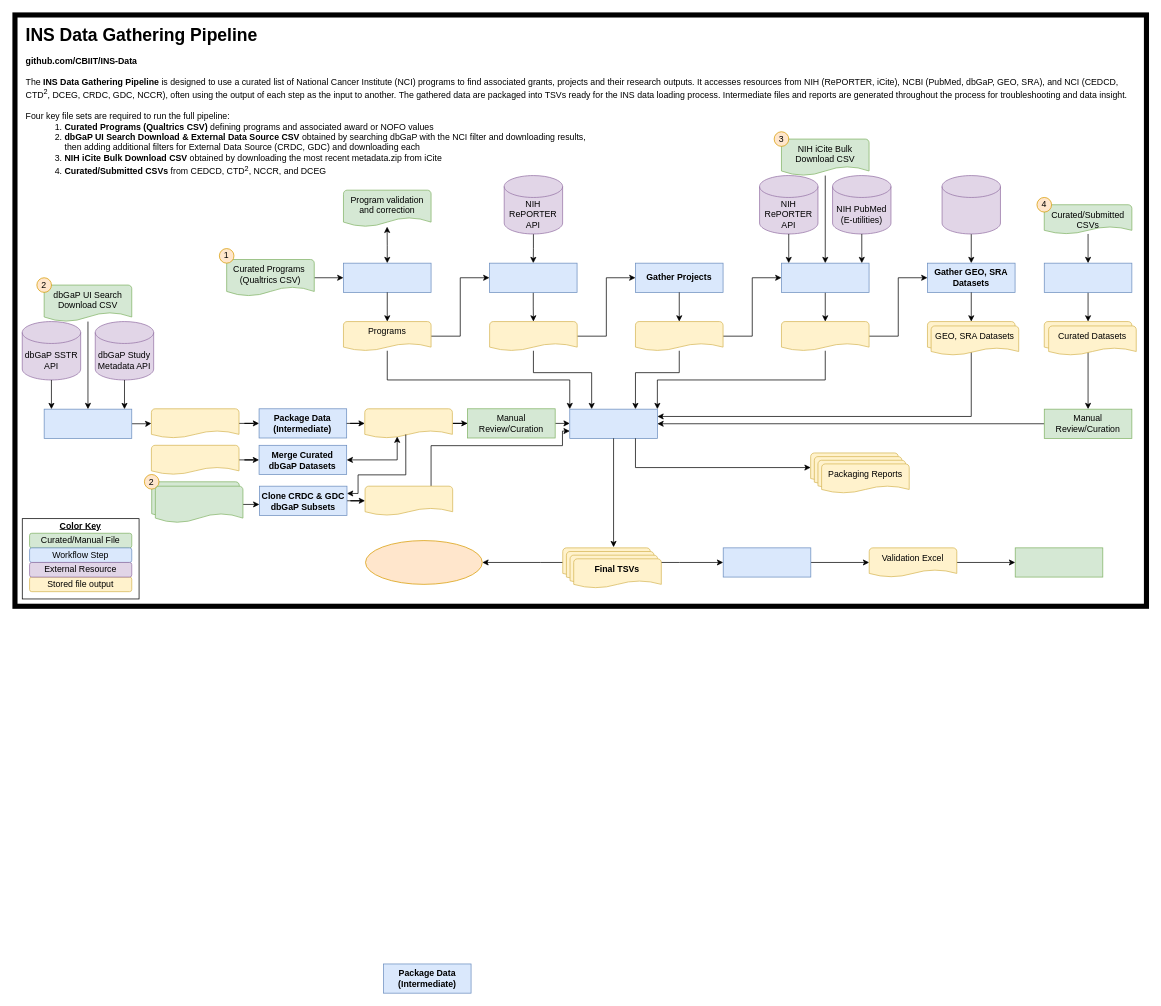
Image size: 1161x1006. Some labels were removed from this diagram. The centre of each missing label's shape, as x and y in pixels:
CRDC, GDC Datasets: (x=408, y=500)
Data Validation: (x=766, y=562)
dbGaP Datasets: (x=195, y=423)
dbGaP External Data Source Downloads: (x=199, y=504)
Gather dbGaP Datasets: (x=87, y=423)
Gather Grants: (x=533, y=277)
Gather Programs: (x=387, y=277)
Gather Publications: (x=825, y=277)
Grants: (x=533, y=336)
NCBI GEO, SRA (E-utilities): (x=970, y=204)
Package Data: (x=613, y=423)
Previous dbGaP Curation: (x=195, y=459)
Process Curated CEDCD, CTD 2 , NCCR, DCEG: (x=1088, y=277)
Processed dbGaP Datasets: (x=408, y=423)
Projects: (x=679, y=336)
Publications: (x=825, y=336)
QA validation of Excel with INS UI: (x=1058, y=562)
TSVs Ready for INS Data Loading Process: (x=423, y=562)
